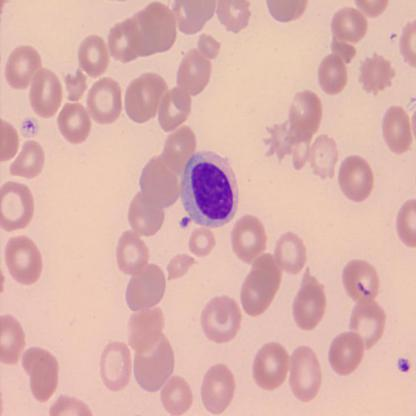Myelocyte: (179, 151, 239, 228)
